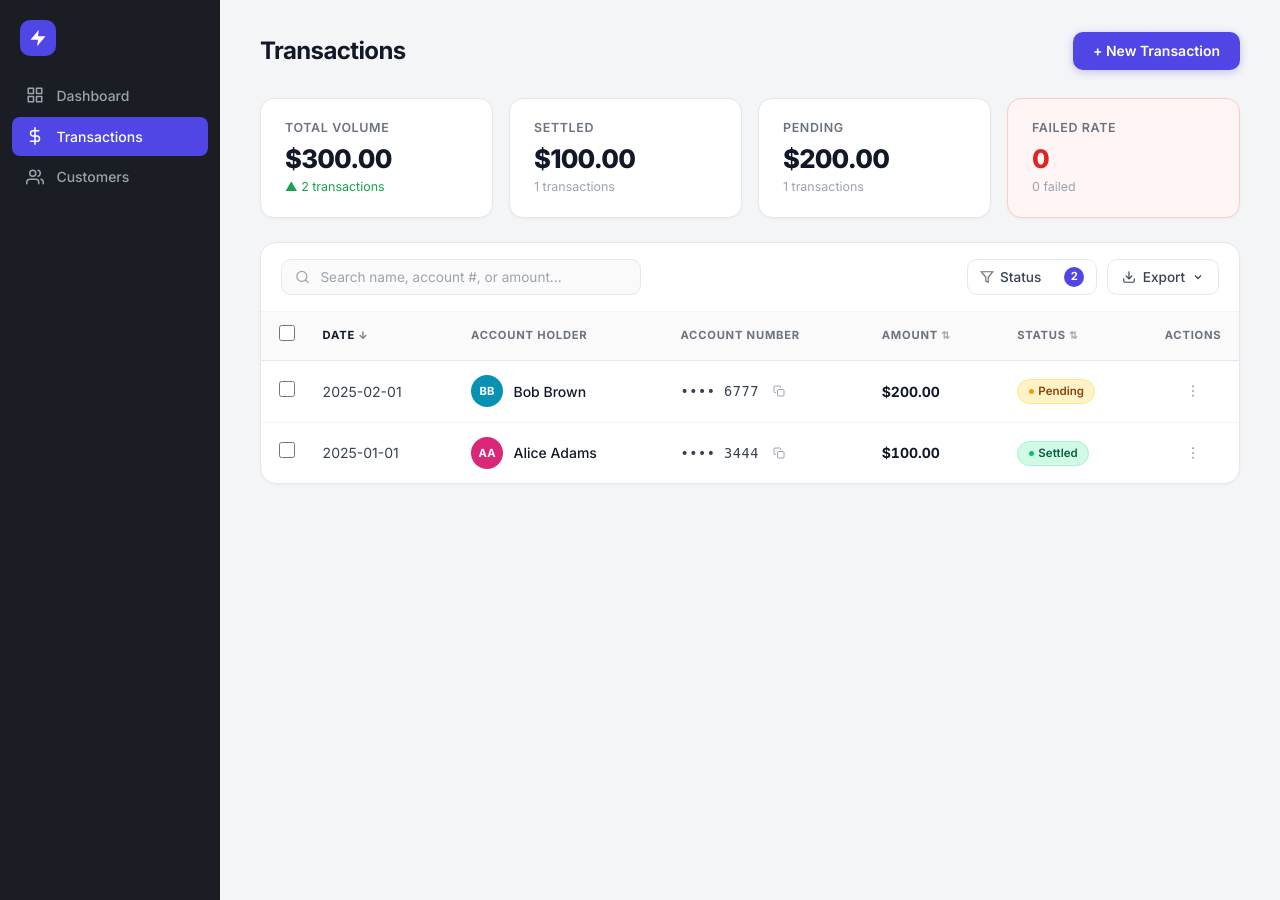
Test: App › adds a new transaction through the modal
The width and height of the screenshot is (1280, 900).
Expected: the text "Alice Adams" is shown, [514,442,597,464]
Click the button "+ New Transaction" at (1156, 51), box [1073,32,1240,70]
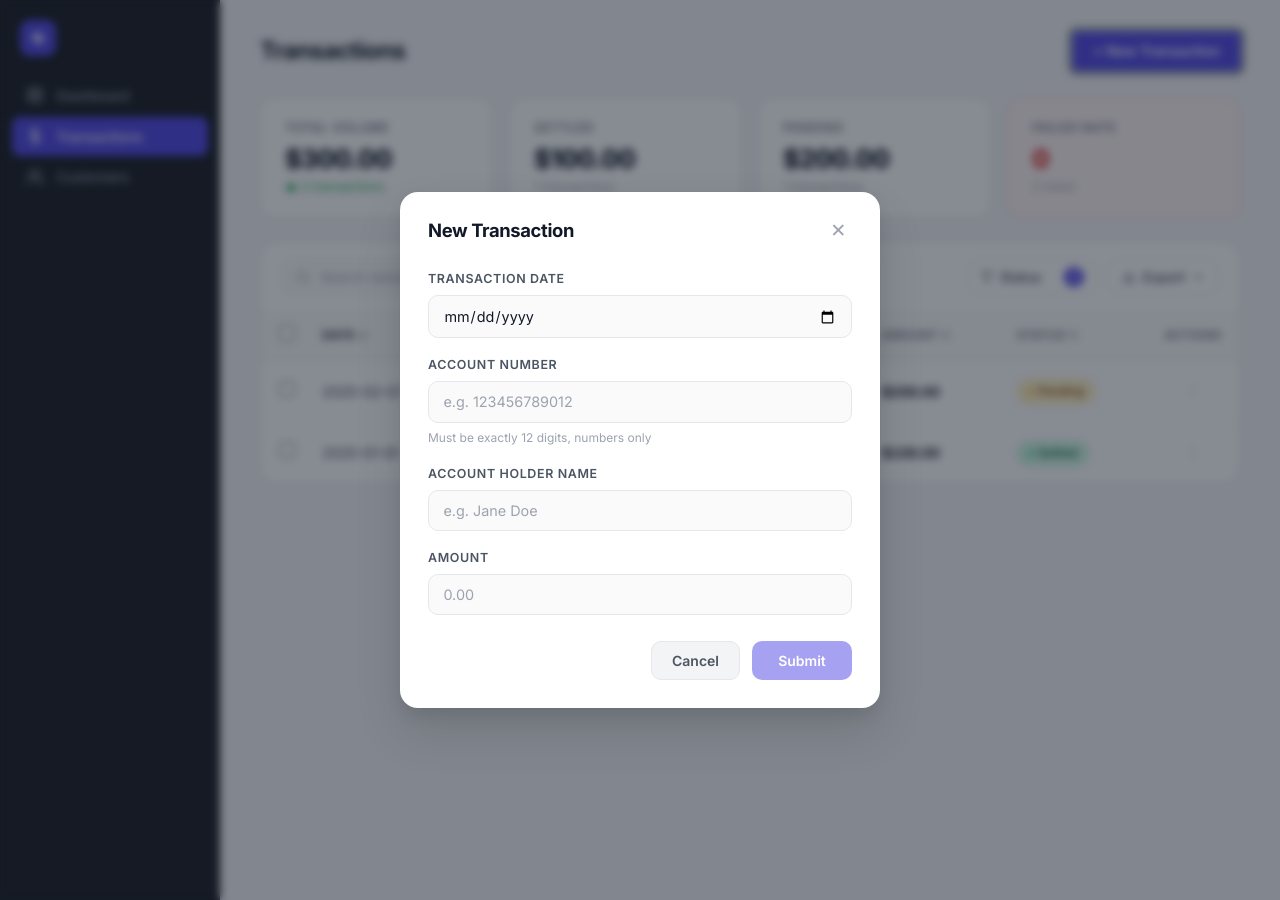
Type "2025-03-01" into the date field labelled "Transaction Date" at (640, 317), box [428,295,852,338]
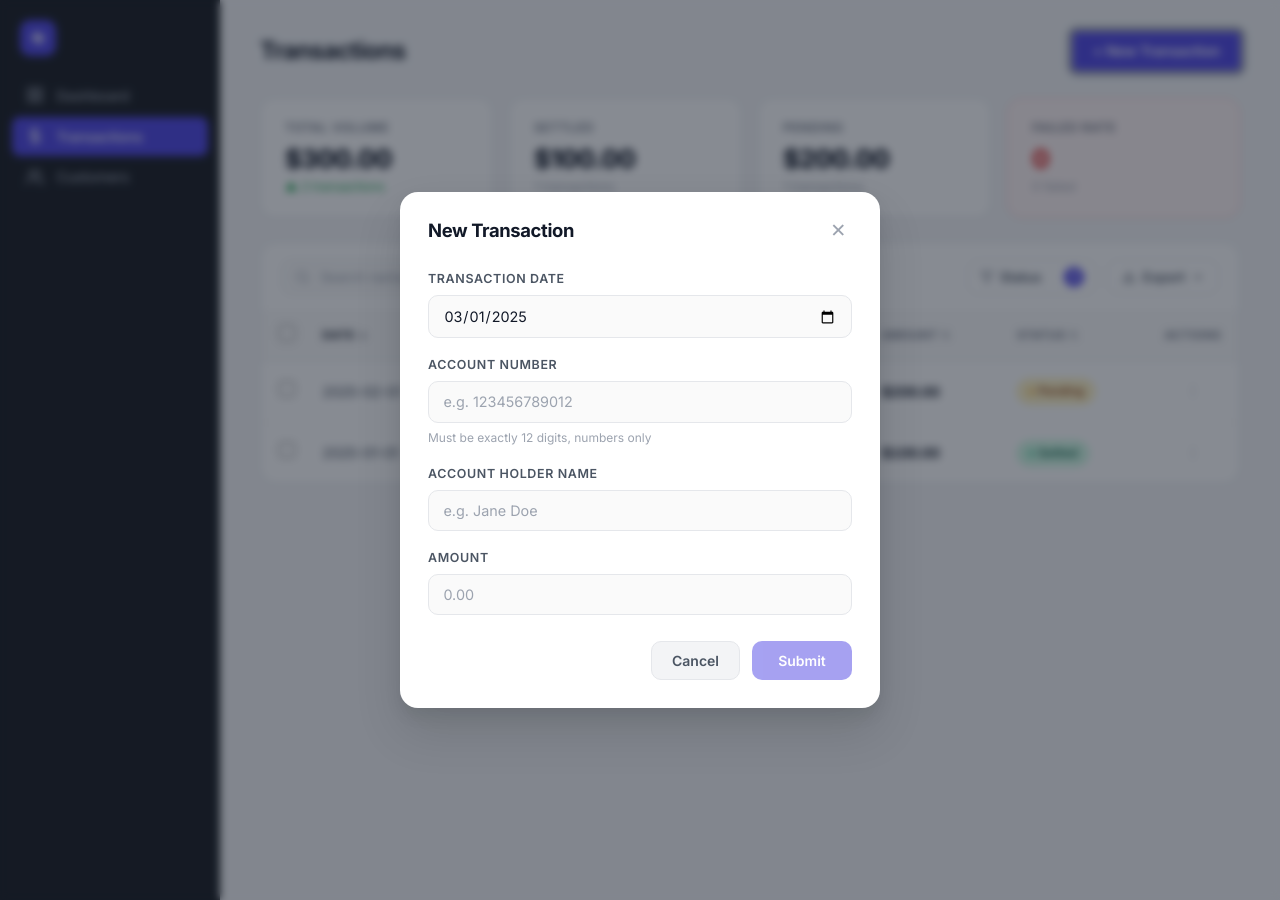
Type "999888777666" into the field labelled "Account Number" at (640, 402), box [428,381,852,422]
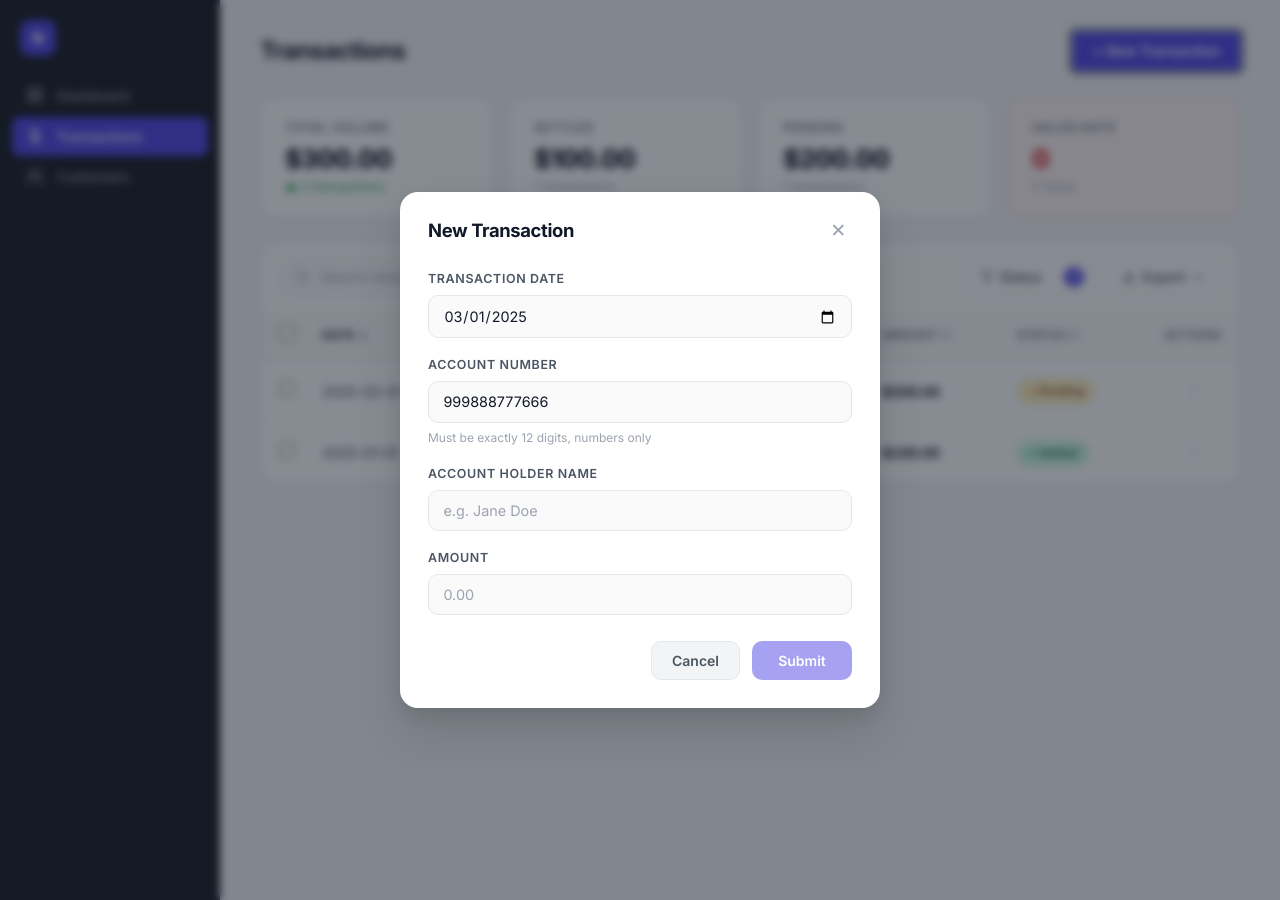
Type "Carol Chen" into the field labelled "Account Holder Name" at (640, 510), box [428,490,852,531]
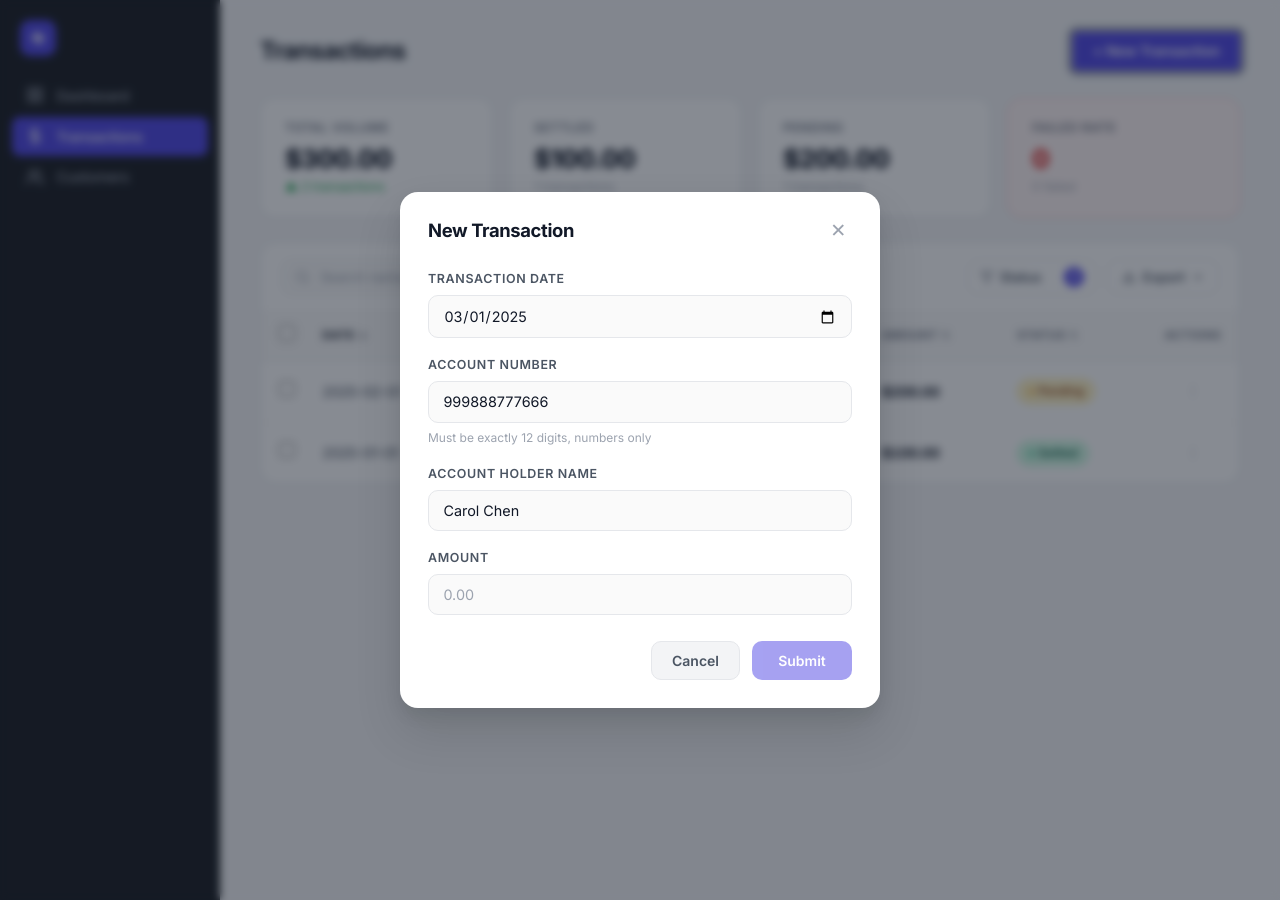
Type "350" into the number field labelled "Amount" at (640, 594), box [428,574,852,615]
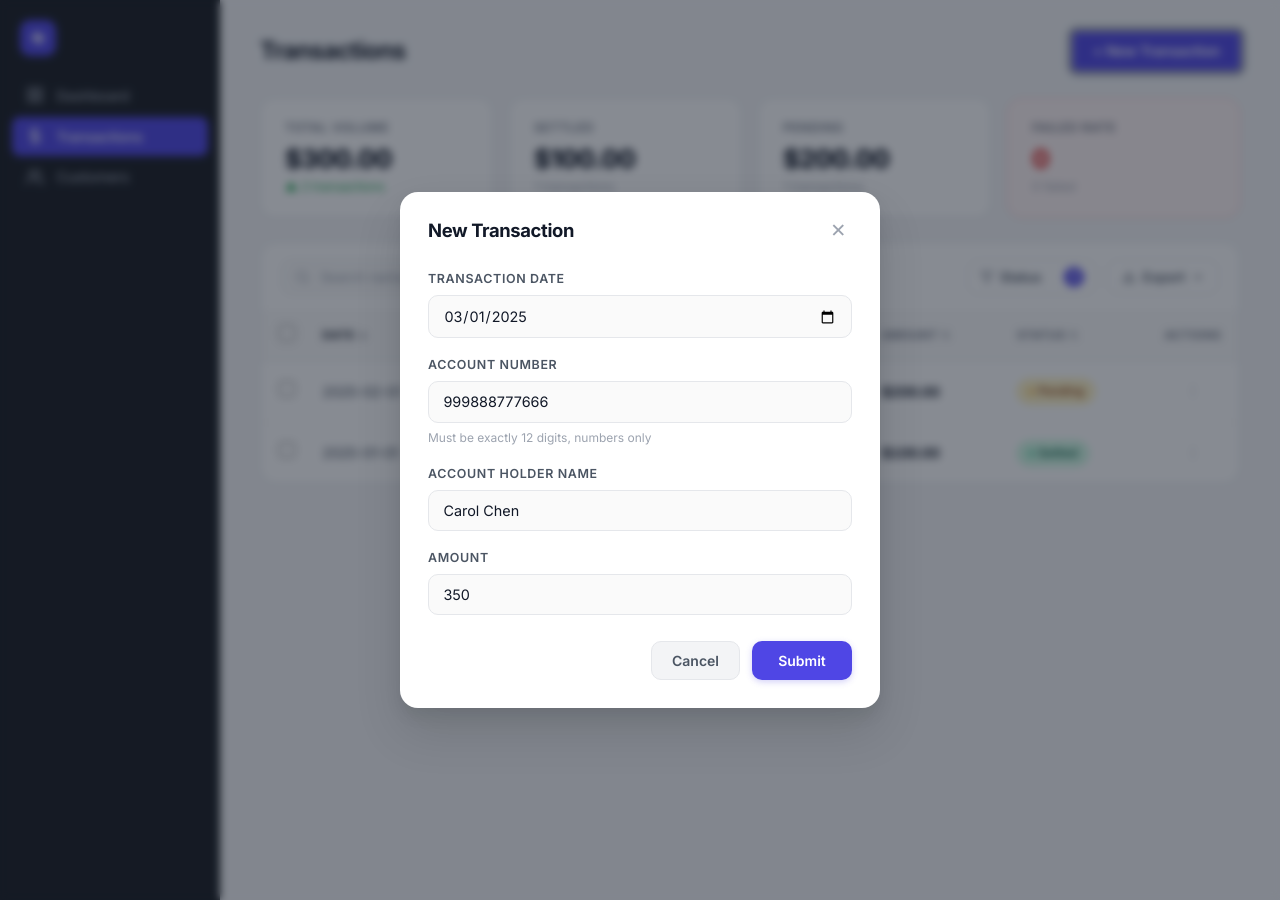
Click the button "Submit" at (802, 661), box [752,641,852,680]
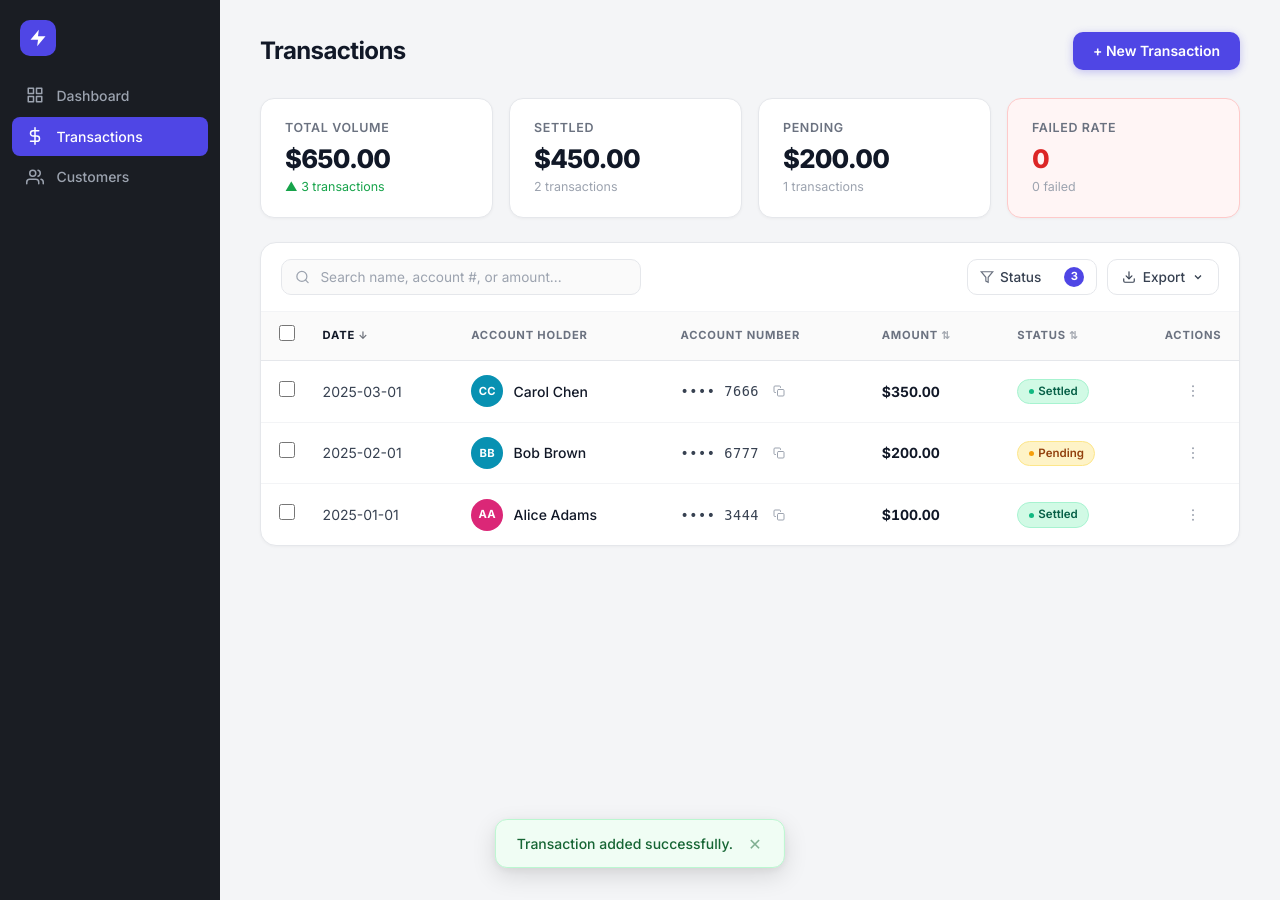
Expected: the text "Carol Chen" is shown, [514,381,588,402]
